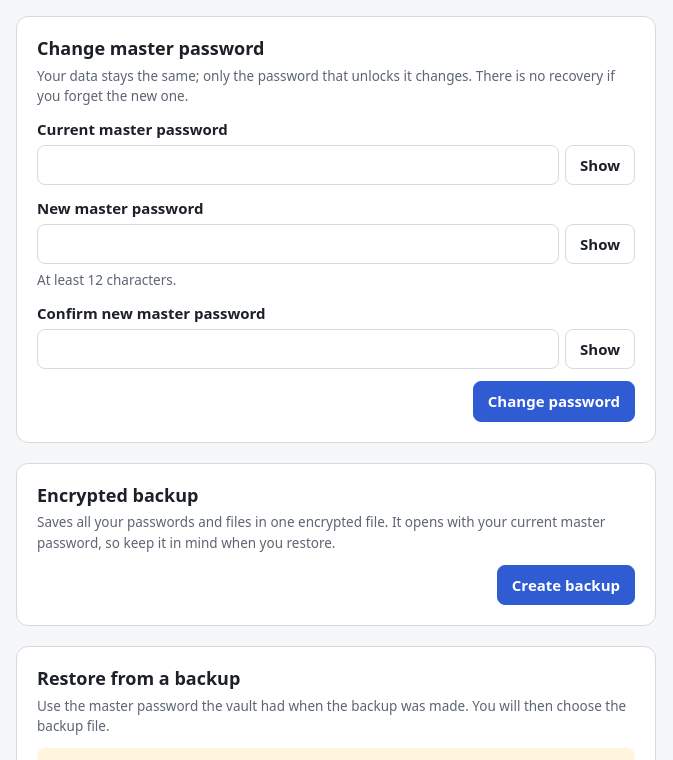
Test: SettingsTab › disables the form while changing
Type "old test phrase" into the password field labelled "Current master password" at [298, 165], box [37,144,559,185]
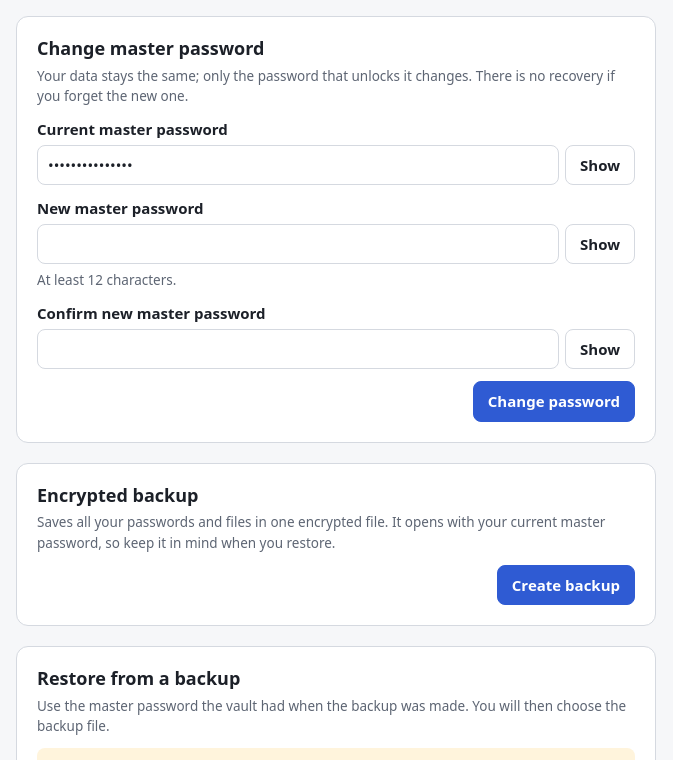
Type "new test phrase!" into the password field labelled "New master password" at [298, 244], box [37,224,559,264]
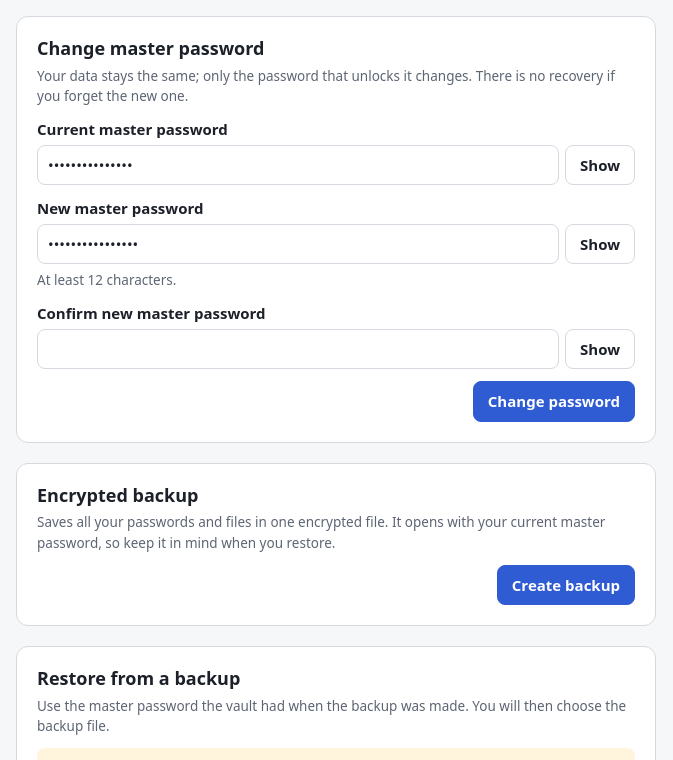
Type "new test phrase!" into the password field labelled "Confirm new master password" at [298, 349], box [37,329,559,369]
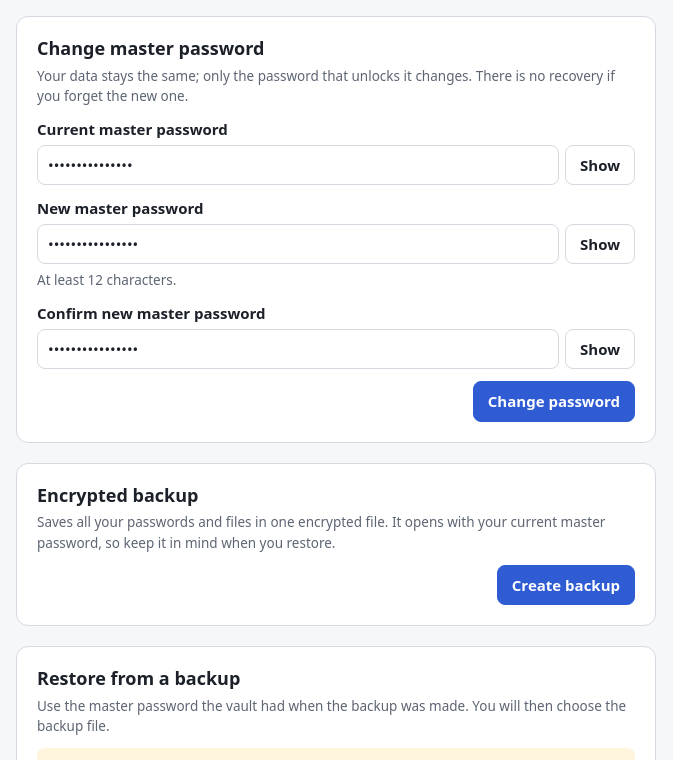
Click the button "Change password" at [554, 402], box [473,381,635,422]
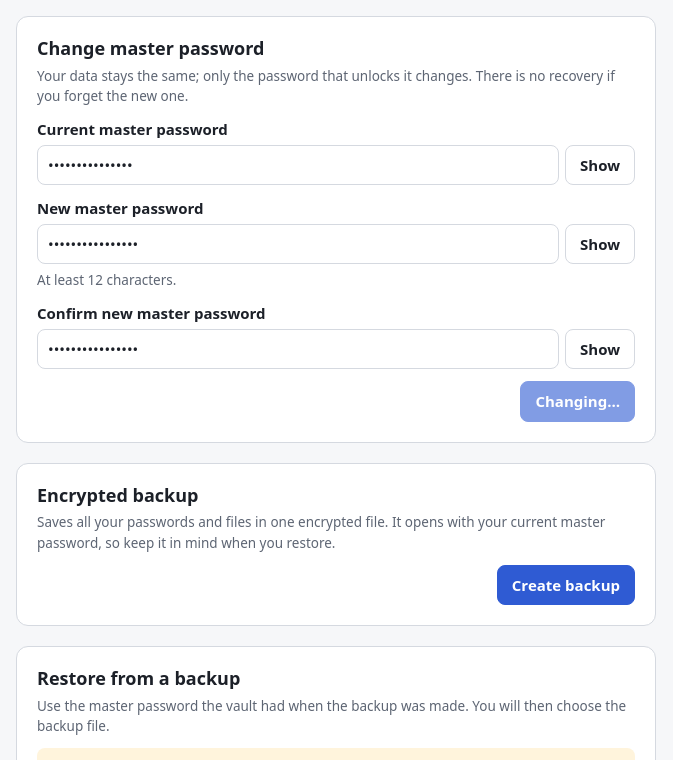
Expected: the button "Changing…" is disabled, [520,381,635,422]
